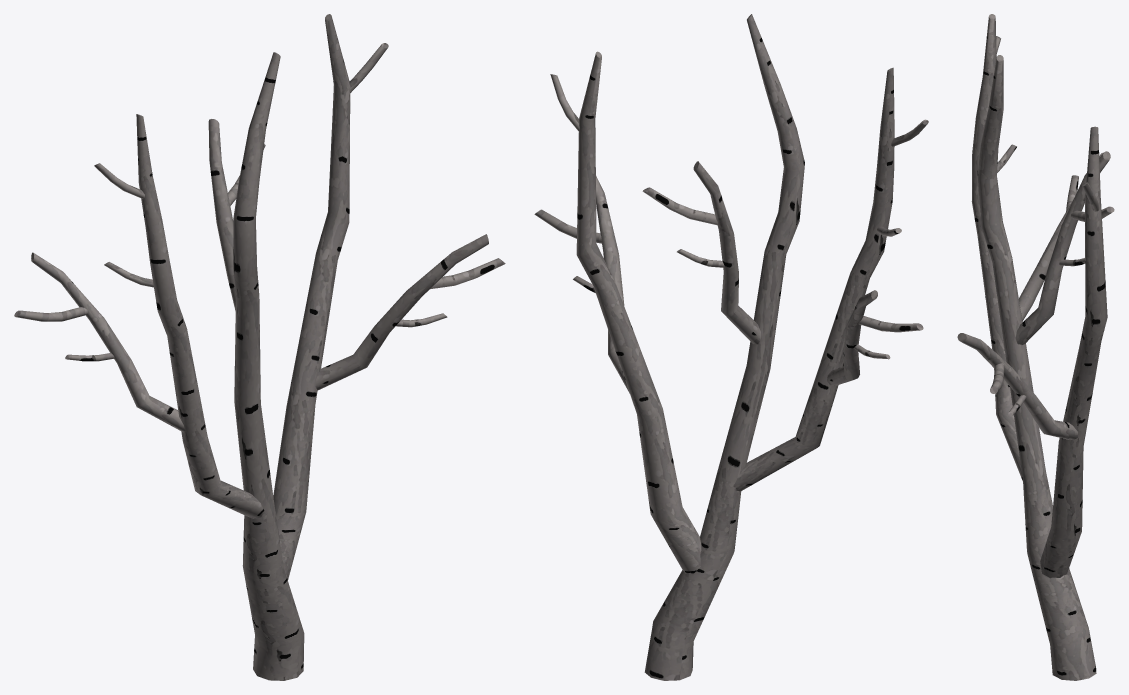
Rendered from deadbirch_3.glb.
3 views of the same model, side by side, from view 1: azimuth 30°, elevation 25°; view 2: azimuth 150°, elevation 25°; view 3: azimuth 270°, elevation 25° (orthographic). The views are drawn at different scales.
Visible parts, largest first — view 1: DeadBirch_3; view 2: DeadBirch_3; view 3: DeadBirch_3.
Part boxes in pixels (x1,y1,x2,y2): DeadBirch_3: (14,14,505,680); DeadBirch_3: (534,14,928,680); DeadBirch_3: (957,14,1114,680).
Size of the model in its own units: 7.13 by 10.09 by 2.41.
Materials: 1 (1 with a texture image).
